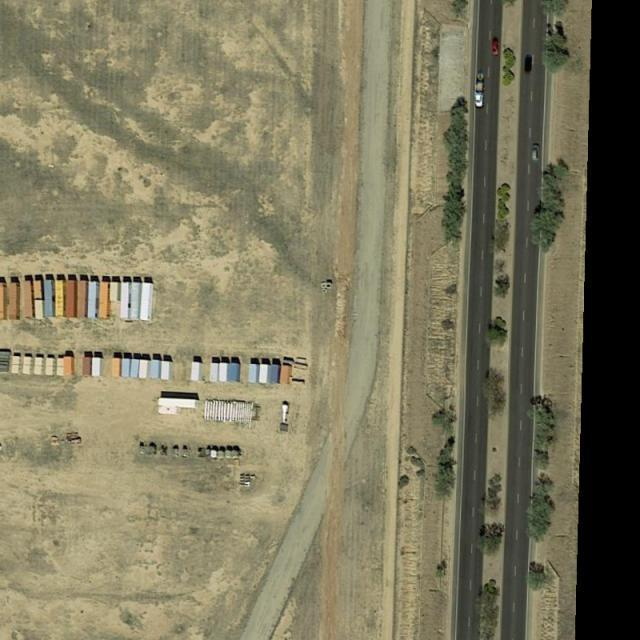vehicle: (474, 73, 486, 109), (525, 54, 534, 76), (532, 144, 540, 161), (491, 40, 499, 55)
